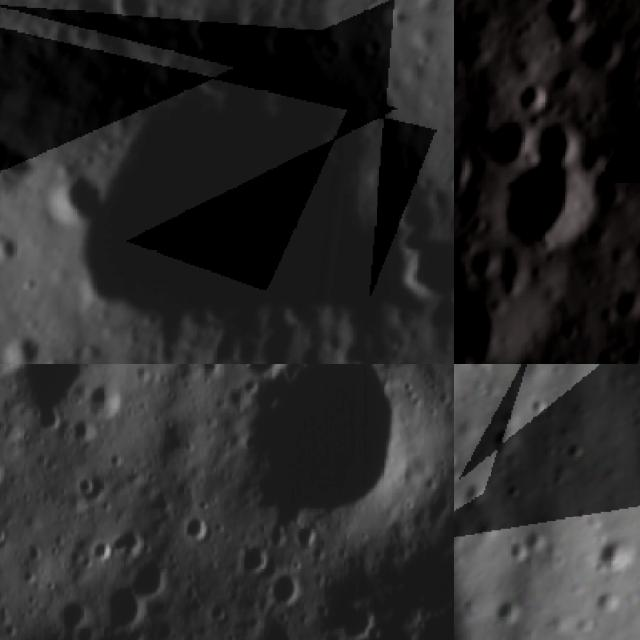crater: (43, 0, 454, 364), (228, 364, 417, 523), (471, 140, 615, 288), (560, 10, 640, 94), (454, 212, 506, 341), (454, 278, 531, 364), (11, 364, 108, 427), (468, 108, 546, 186), (516, 106, 594, 182), (0, 103, 47, 201), (476, 244, 543, 310), (516, 0, 600, 51), (503, 72, 560, 130), (561, 133, 618, 190), (123, 554, 174, 606), (101, 590, 148, 638), (601, 278, 640, 334), (454, 139, 486, 206), (327, 604, 378, 640), (264, 562, 302, 608), (599, 534, 639, 576), (55, 593, 91, 638), (232, 545, 272, 583), (91, 385, 127, 421), (618, 226, 640, 277), (490, 427, 533, 452), (286, 524, 323, 550), (233, 364, 286, 382), (0, 447, 15, 507), (493, 596, 525, 622), (258, 620, 299, 640), (503, 534, 531, 562), (614, 338, 640, 364), (546, 346, 583, 364), (464, 480, 494, 501), (563, 437, 591, 459), (527, 393, 555, 414), (0, 520, 16, 551), (194, 364, 223, 381), (530, 527, 548, 551), (552, 470, 573, 488), (508, 479, 527, 497), (454, 444, 466, 466), (454, 466, 472, 480)
